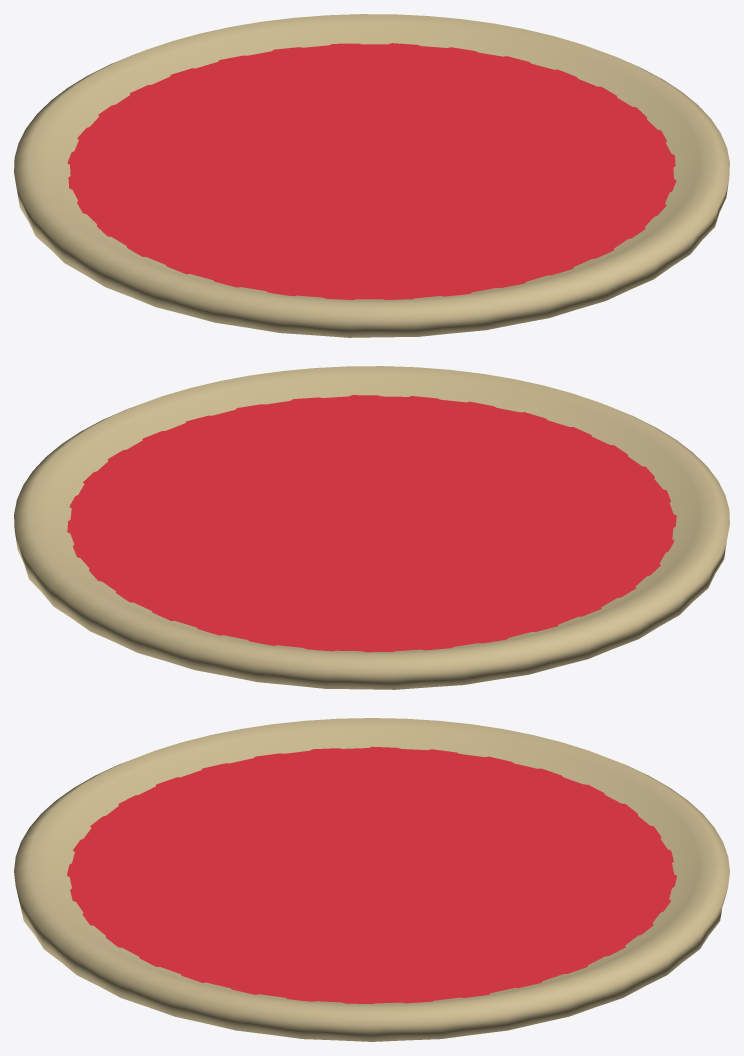
Rendered from FlattenedDoughSauce.glb.
3 renders of one model, top to bottom at view 1: azimuth 30°, elevation 25°; view 2: azimuth 150°, elevation 25°; view 3: azimuth 270°, elevation 25°, orthographic.
Parts seen in each view (by area): view 1: Sauce.001, Dough; view 2: Sauce.001, Dough; view 3: Sauce.001, Dough.
Boxes of the visible parts, x1,y1,x2,y2 form: Sauce.001: (67, 43, 676, 299); Dough: (14, 14, 729, 337); Sauce.001: (67, 395, 676, 652); Dough: (14, 366, 729, 689); Sauce.001: (67, 746, 676, 1003); Dough: (14, 718, 729, 1041).
Bounding box in the file's own units: 1.95 × 0.1805 × 1.95.
